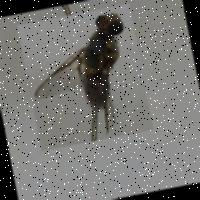Oriental-fruit-fly: (16, 5, 152, 152)
